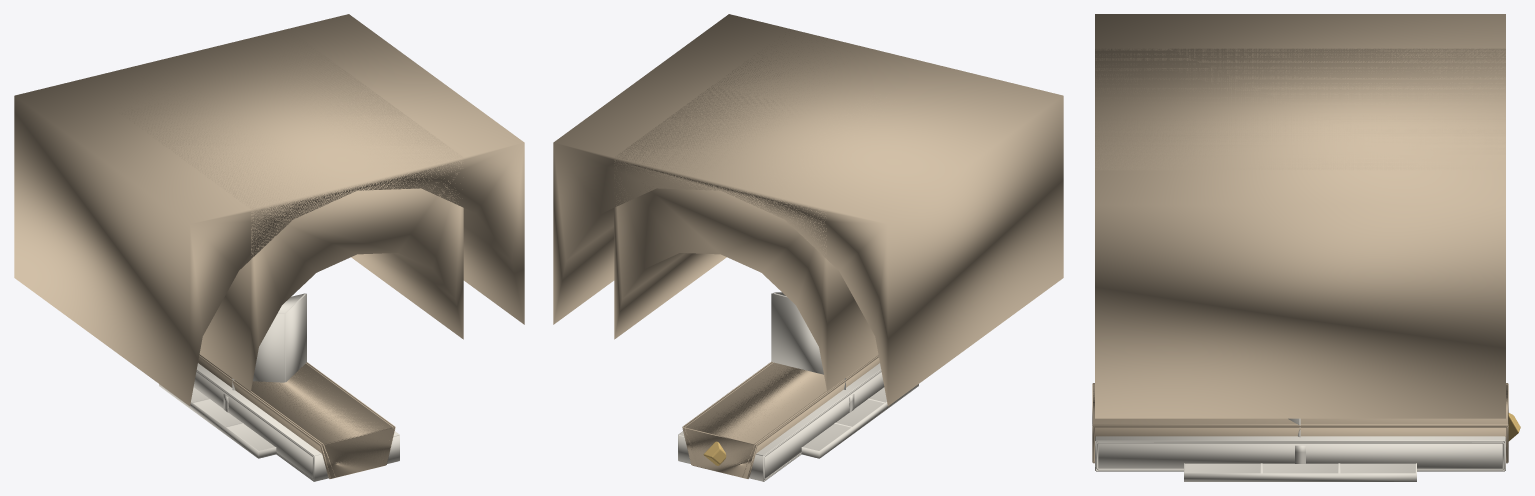
Rendered from sangam-keystone-bridge.glb.
The picture shows the model from 3 angles, left to right: view 1: azimuth 30°, elevation 25°; view 2: azimuth 150°, elevation 25°; view 3: azimuth 270°, elevation 25°; orthographic projection. The views are drawn at different scales.
Parts seen in each view (by area): view 1: SpandrelWall, SpandrelWallSide, Keystone, KeystoneSide, PierCourse, CutwaterPier, DeckSegment; view 2: SpandrelWall, SpandrelWallSide, Keystone, KeystoneSide, PierCourse, CutwaterPier, DeckSegment; view 3: SpandrelWall, SpandrelWallSide, PierCourse, Keystone, DeckSegment, KeystoneSide.
Part boxes in pixels (bbox=[...]): SpandrelWall: bbox=[14, 14, 524, 406]; SpandrelWallSide: bbox=[121, 29, 463, 391]; Keystone: bbox=[198, 354, 395, 478]; KeystoneSide: bbox=[208, 360, 393, 477]; PierCourse: bbox=[193, 363, 399, 481]; CutwaterPier: bbox=[232, 293, 306, 390]; DeckSegment: bbox=[159, 384, 276, 458]; SpandrelWall: bbox=[553, 14, 1063, 406]; SpandrelWallSide: bbox=[614, 31, 896, 391]; Keystone: bbox=[682, 354, 879, 478]; KeystoneSide: bbox=[684, 360, 869, 477]; PierCourse: bbox=[678, 363, 884, 481]; CutwaterPier: bbox=[771, 292, 845, 389]; DeckSegment: bbox=[801, 384, 918, 458]; SpandrelWall: bbox=[1095, 14, 1505, 418]; SpandrelWallSide: bbox=[1095, 48, 1505, 170]; PierCourse: bbox=[1095, 436, 1505, 471]; Keystone: bbox=[1092, 383, 1508, 463]; DeckSegment: bbox=[1184, 463, 1416, 481]; KeystoneSide: bbox=[1092, 384, 1508, 425].
Size of the model in its own units: 6.6 by 5.44 by 6.25.
